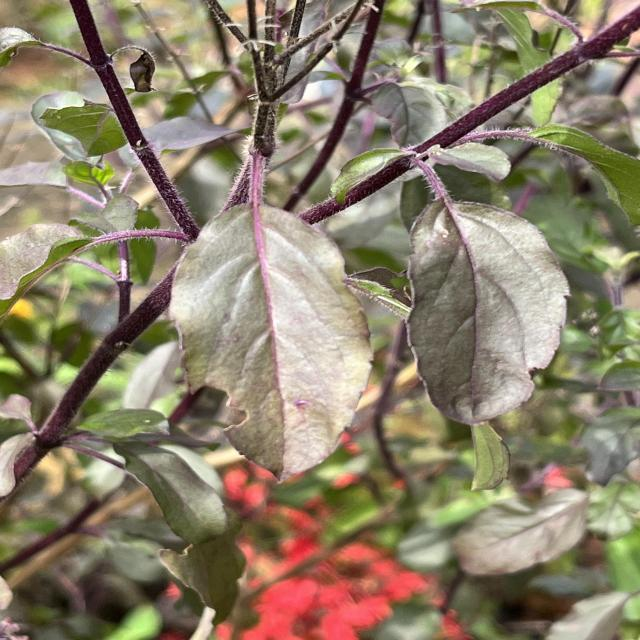Ocimum tenuiflorum: (167, 202, 376, 484), (402, 197, 574, 427)
